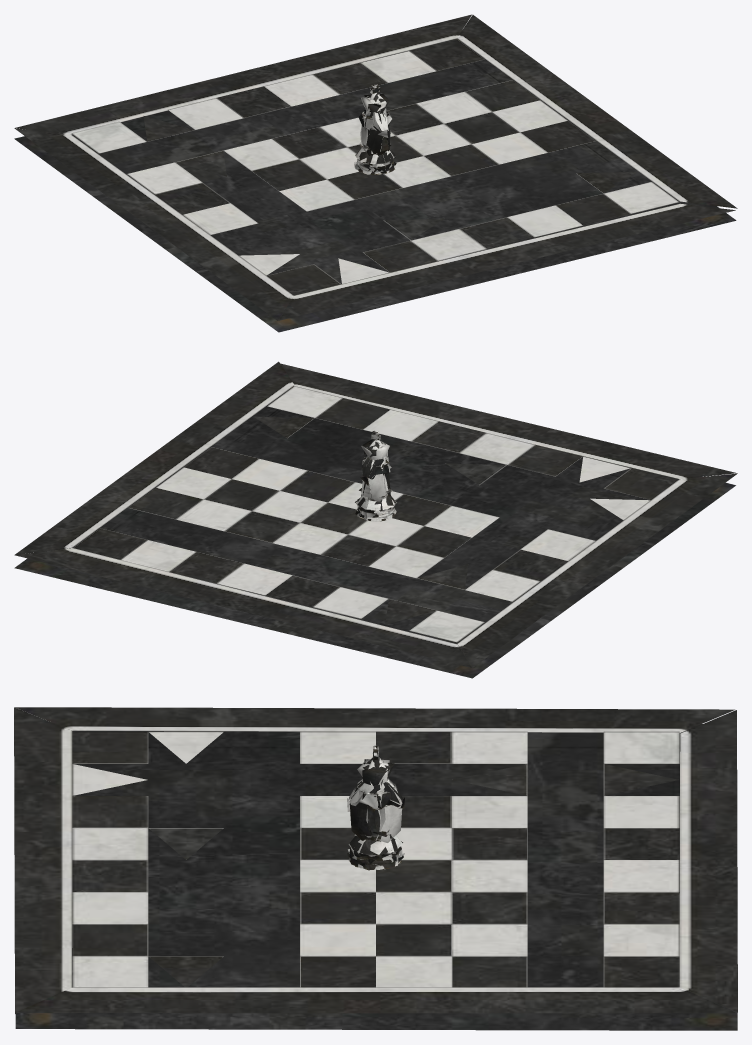
File: chess_pieces.glb
The picture shows the model from 3 angles, top to bottom: view 1: azimuth 30°, elevation 25°; view 2: azimuth 150°, elevation 25°; view 3: azimuth 270°, elevation 25°; orthographic projection. The views are drawn at different scales.
Parts seen in each view (by area): view 1: board, b_q, b_n, w_n, w_q; view 2: board, w_q, w_n; view 3: board, b_n, b_q, w_n, w_q, b_k.
Part boxes in pixels (bbox=[...]): board: bbox=[14, 14, 737, 332]; b_q: bbox=[355, 91, 395, 173]; b_n: bbox=[358, 107, 396, 174]; w_n: bbox=[354, 107, 389, 173]; w_q: bbox=[355, 93, 395, 174]; board: bbox=[14, 361, 737, 678]; w_q: bbox=[355, 438, 396, 519]; w_n: bbox=[357, 451, 393, 521]; board: bbox=[14, 707, 737, 1030]; b_n: bbox=[347, 779, 404, 869]; b_q: bbox=[349, 755, 402, 863]; w_n: bbox=[347, 778, 404, 866]; w_q: bbox=[349, 753, 402, 858]; b_k: bbox=[349, 746, 401, 870].
Bounding box in the file's own units: 0.5528 × 0.1096 × 0.5522.
3 materials, 3 textured.
